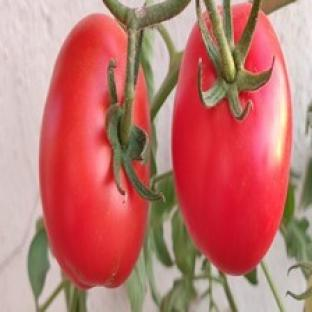Tomato: (172, 13, 292, 274), (39, 14, 147, 288)
